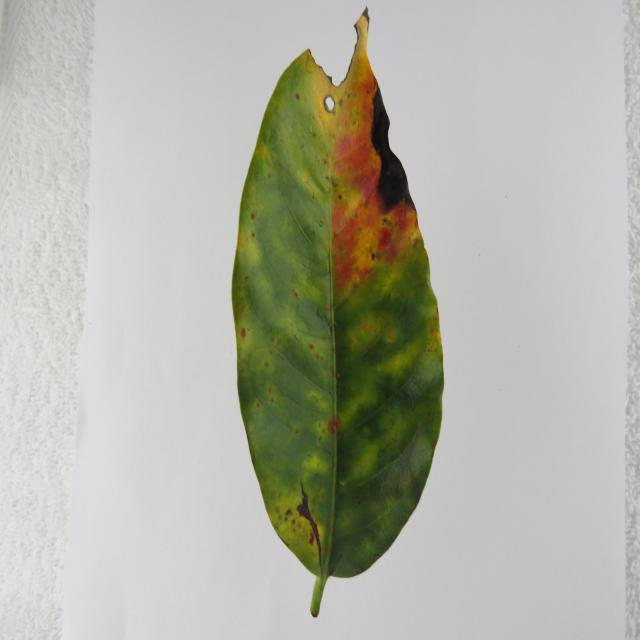DeficienciaNutricional-Fosforo: (232, 10, 444, 617)
